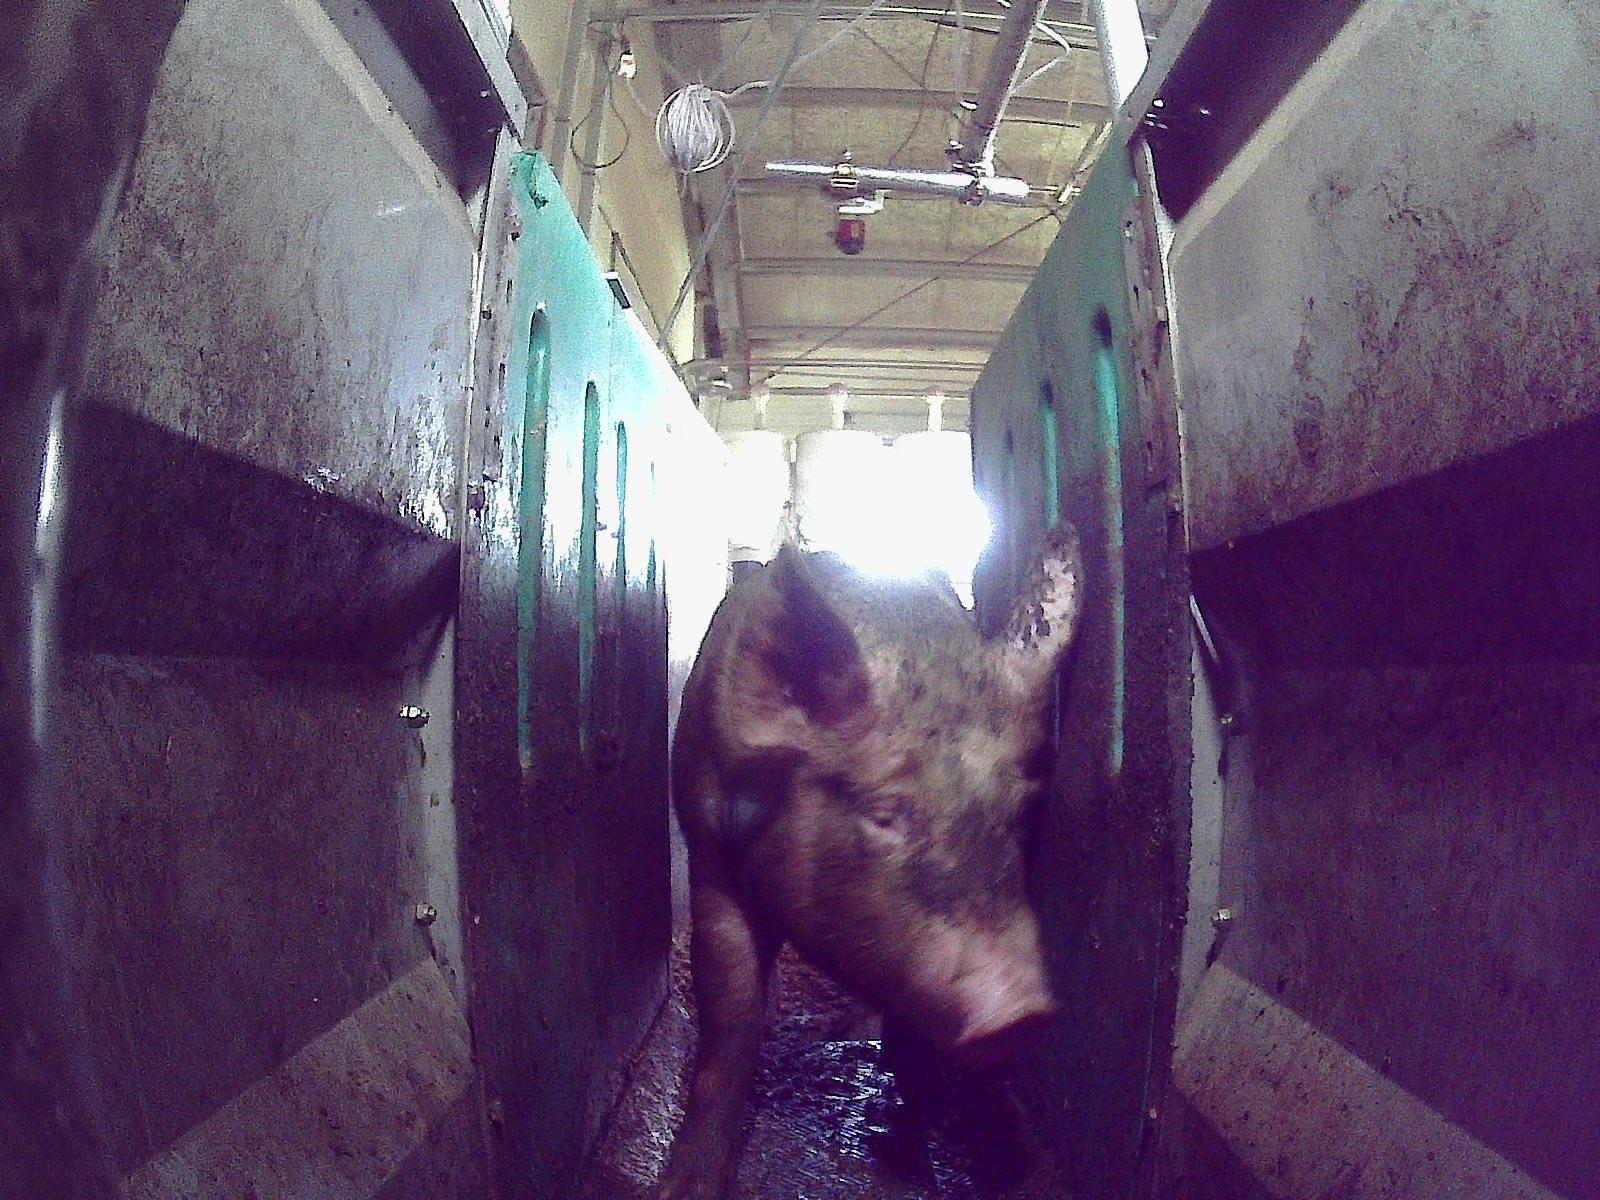Face: (790, 661, 1062, 1057)
